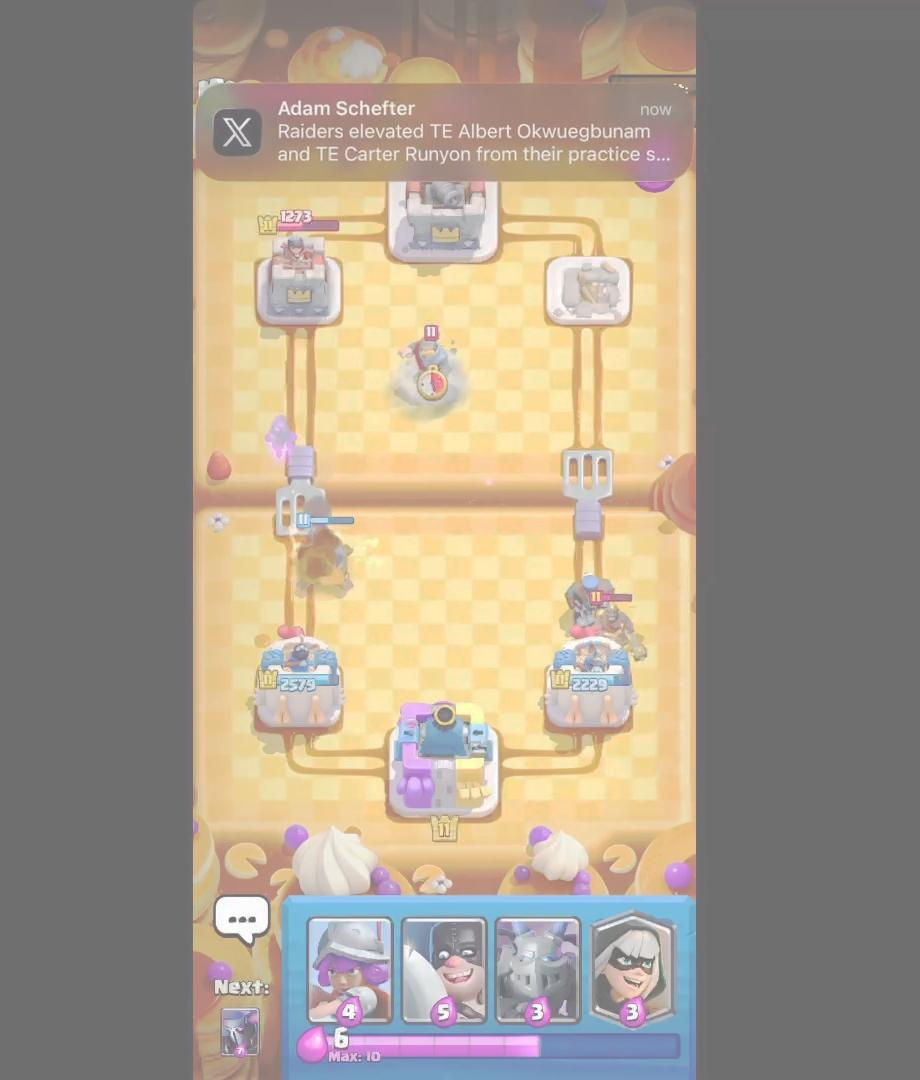Hog Rider: (590, 587, 645, 663)
Knight: (392, 318, 463, 406)
